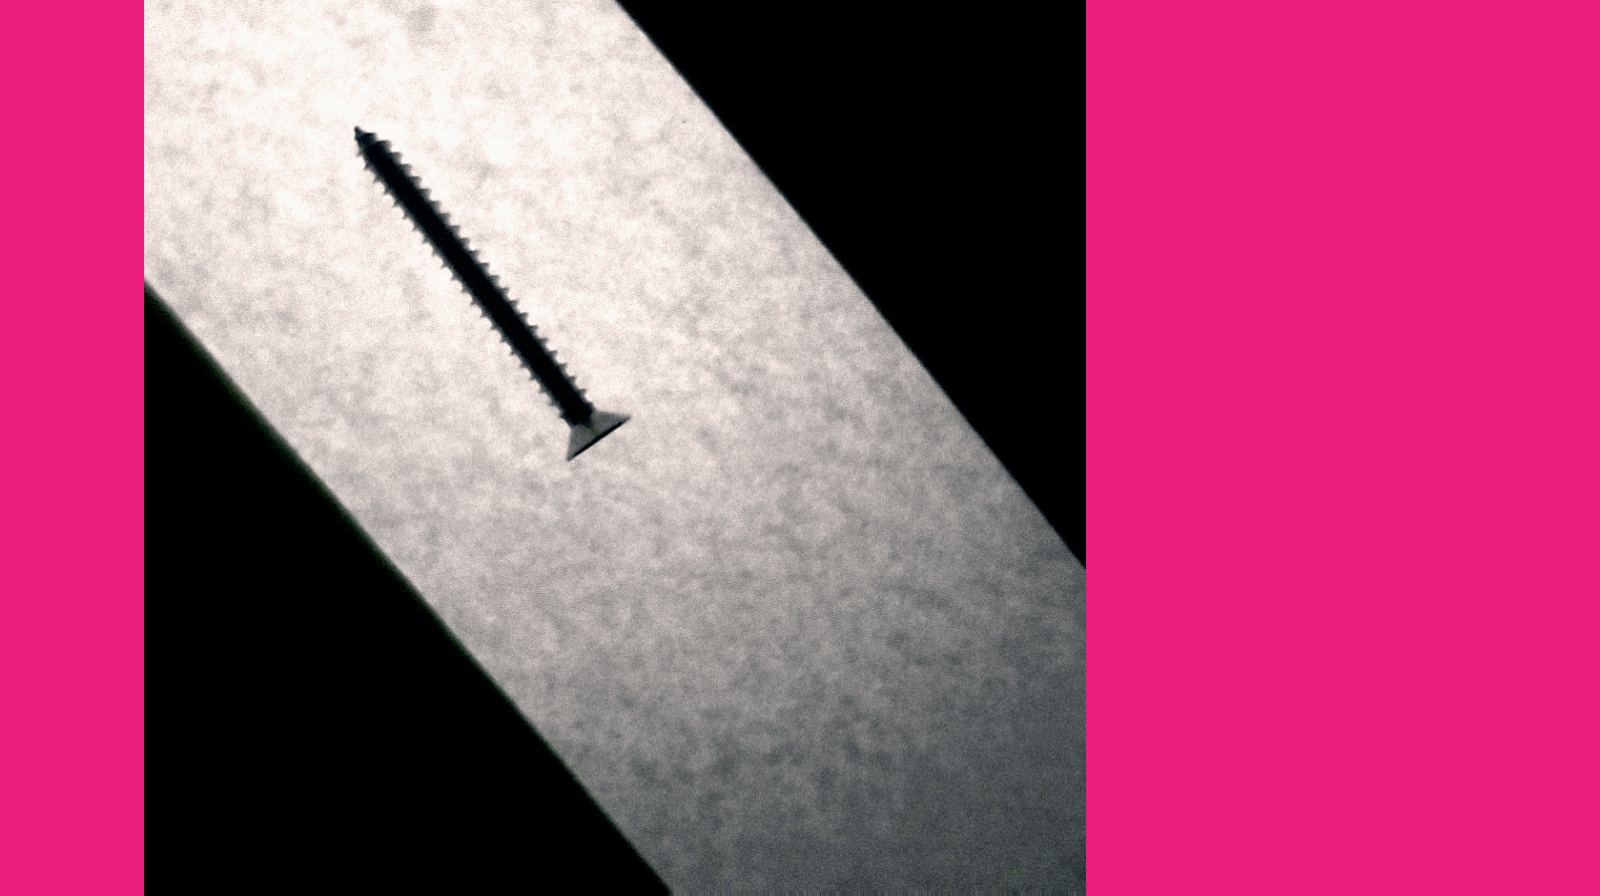S002: (331, 111, 634, 475)
